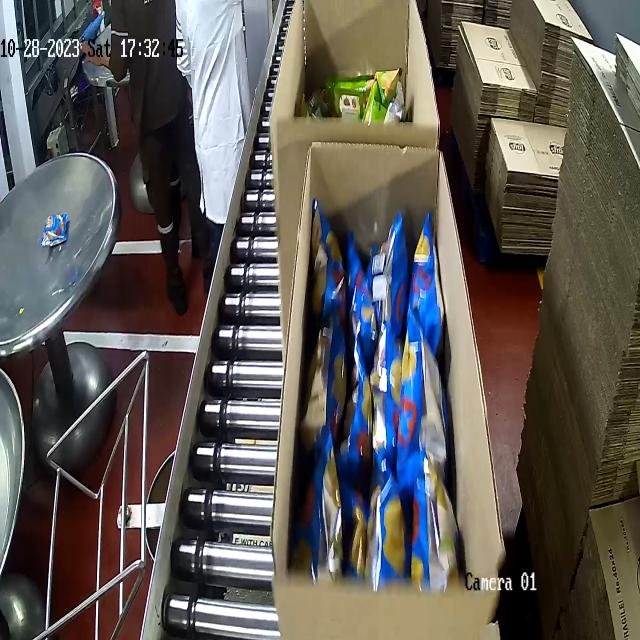PAPRIKA: (311, 200, 468, 602)
